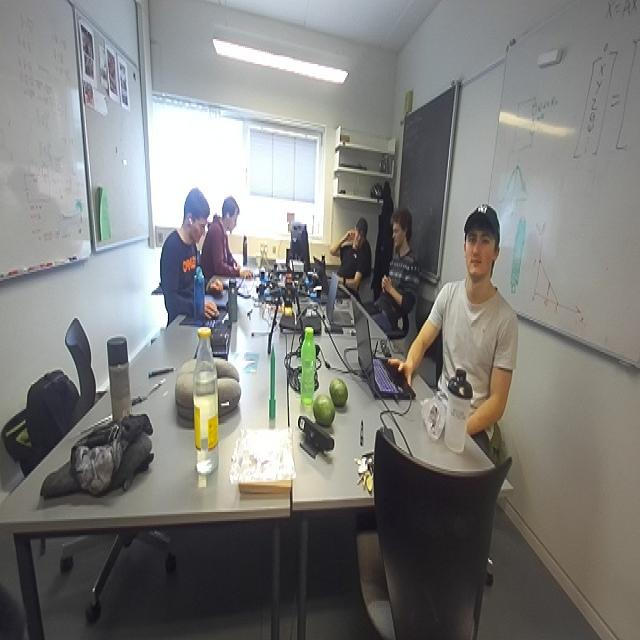probe: (268, 345, 274, 427)
